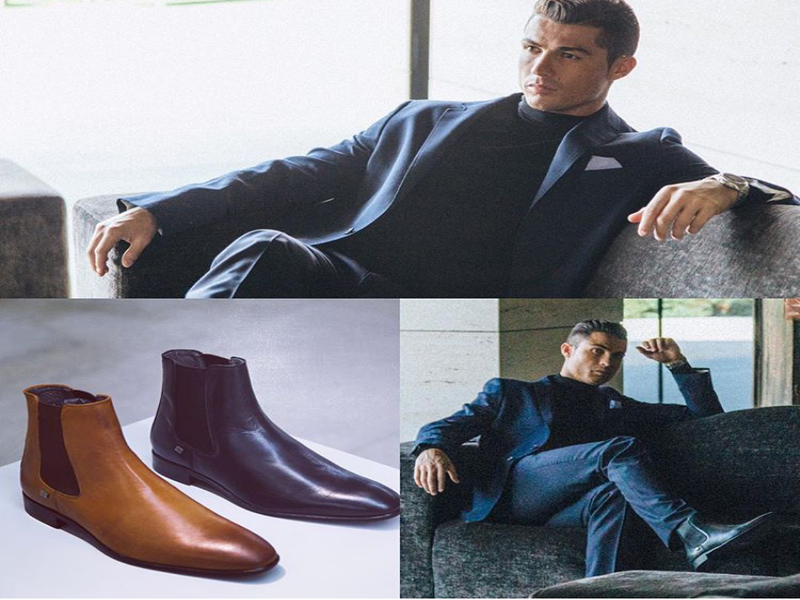shoes_men_chelsea_chelseaboots_leather_none_none_black_none: (140, 348, 407, 522), (665, 505, 794, 565)
shoes_men_chelsea_chelseaboots_leather_none_none_brown_none: (13, 383, 283, 583)
